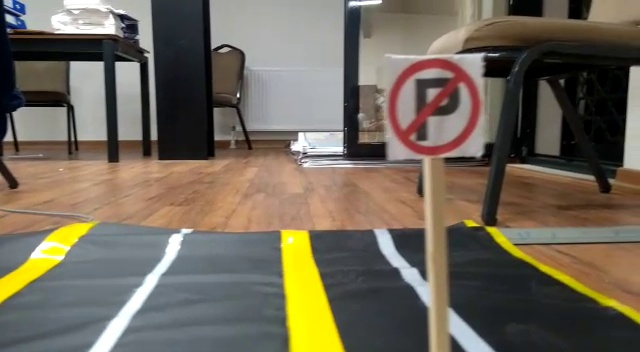park_yapilmaz: (380, 52, 483, 157)
